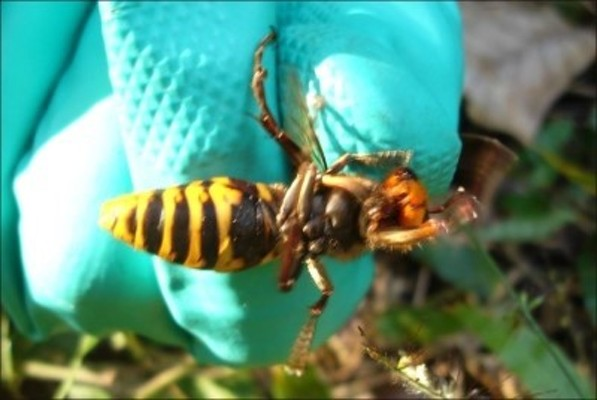asian_giant_hornet: (95, 161, 448, 289)
